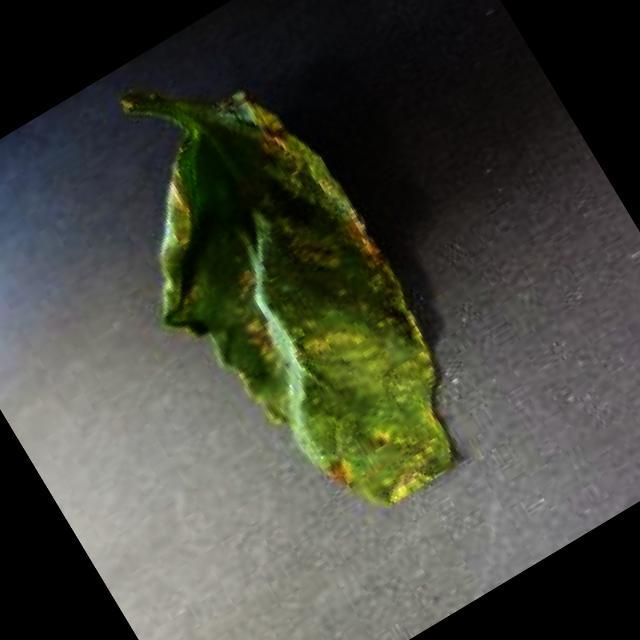Tomato bacterial spot leaf: (39, 4, 525, 576)
